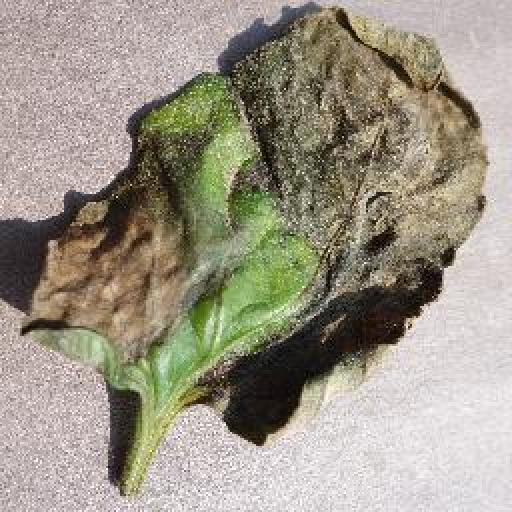disease_tomato: (18, 3, 490, 453)
